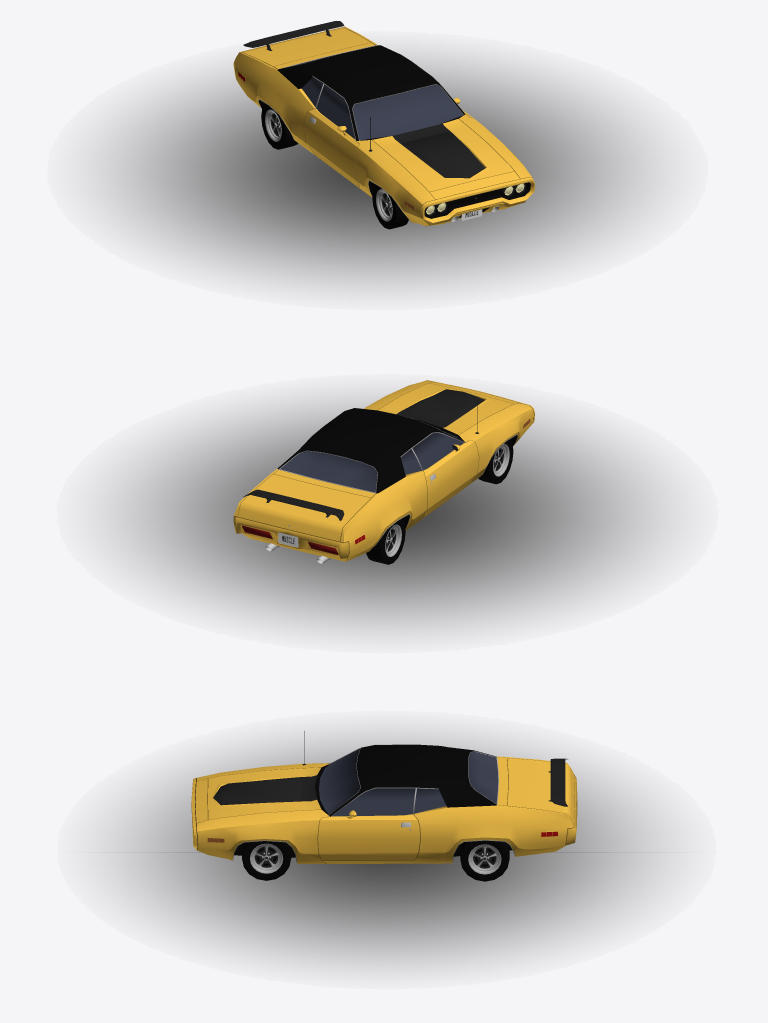
File: car.glb
3 views of the same model, one above another, from view 1: azimuth 30°, elevation 25°; view 2: azimuth 150°, elevation 25°; view 3: azimuth 270°, elevation 25° (orthographic).
Parts seen in each view (by area): view 1: Ground, Body, Body.004, windows-side, Circle.019, Circle.018, Plane, trim_windows; view 2: Ground, Body, windows-side, Body.003, Circle.018, Circle.019, Plane; view 3: Ground, Body, windows-side, Circle.018, Circle.019, Plane.
Boxes of the visible parts, x1,y1,x2,y2 form: Ground: [98, 53, 657, 288]; Body: [234, 26, 532, 226]; Body.004: [421, 177, 534, 224]; windows-side: [302, 77, 355, 139]; Circle.019: [372, 184, 408, 229]; Circle.018: [261, 103, 298, 149]; Plane: [243, 21, 344, 47]; trim_windows: [278, 45, 465, 140]; Ground: [108, 395, 666, 631]; Body: [234, 380, 533, 561]; windows-side: [401, 433, 463, 474]; Body.003: [233, 516, 349, 558]; Circle.018: [366, 518, 405, 564]; Circle.019: [478, 439, 513, 484]; Plane: [243, 489, 344, 520]; Ground: [95, 732, 678, 967]; Body: [195, 744, 574, 863]; windows-side: [332, 788, 446, 816]; Circle.018: [460, 840, 509, 881]; Circle.019: [242, 841, 291, 880]; Plane: [550, 758, 567, 806].
Size of the model in its own units: 12.72 by 1.81 by 12.72.
Materials: 18 (2 with a texture image).
